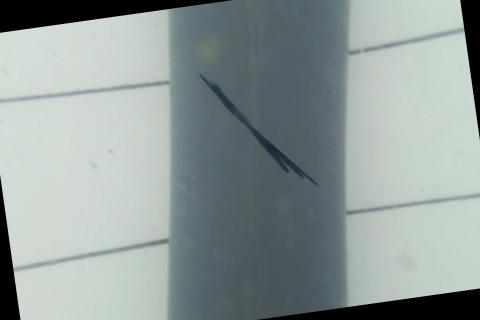keretakan: (199, 57, 321, 204)
